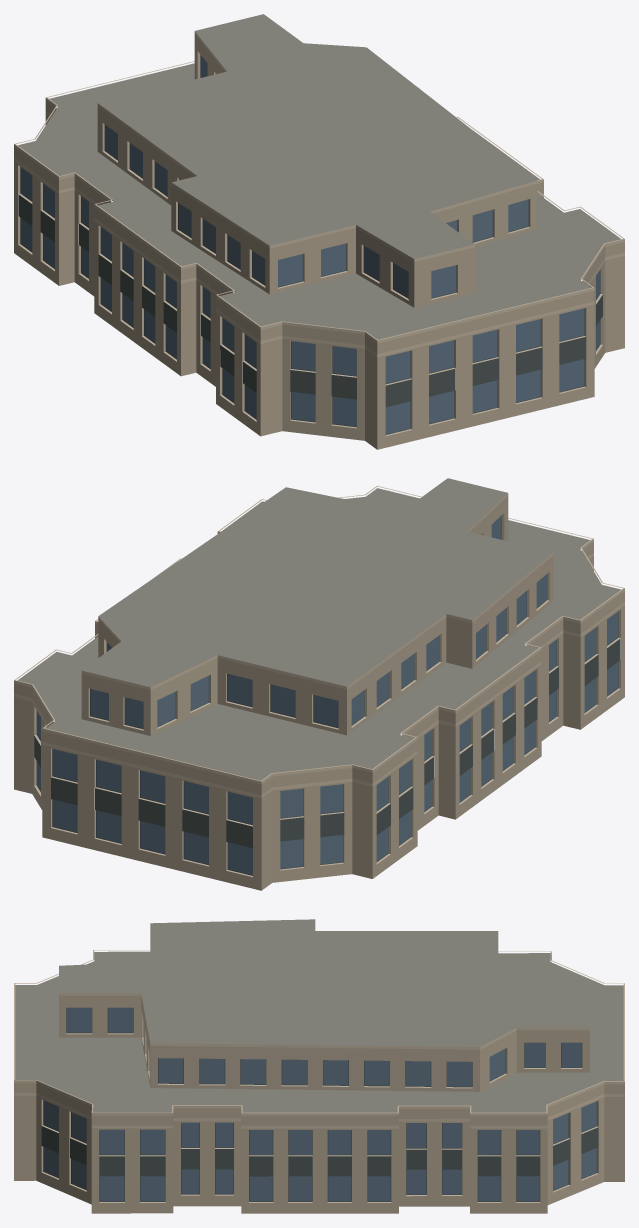
The model's file is dc-au-bender-library.detail.glb.
3 renders of one model, top to bottom at view 1: azimuth 30°, elevation 25°; view 2: azimuth 150°, elevation 25°; view 3: azimuth 270°, elevation 25°, orthographic. The views are drawn at different scales.
Visible parts, largest first — view 1: Bender Library; view 2: Bender Library; view 3: Bender Library.
Part boxes in pixels (bbox=[...]): Bender Library: bbox=[14, 14, 624, 449]; Bender Library: bbox=[14, 478, 624, 890]; Bender Library: bbox=[14, 919, 624, 1213].
Bounding box in the file's own units: 42.24 × 17.5 × 66.75.
